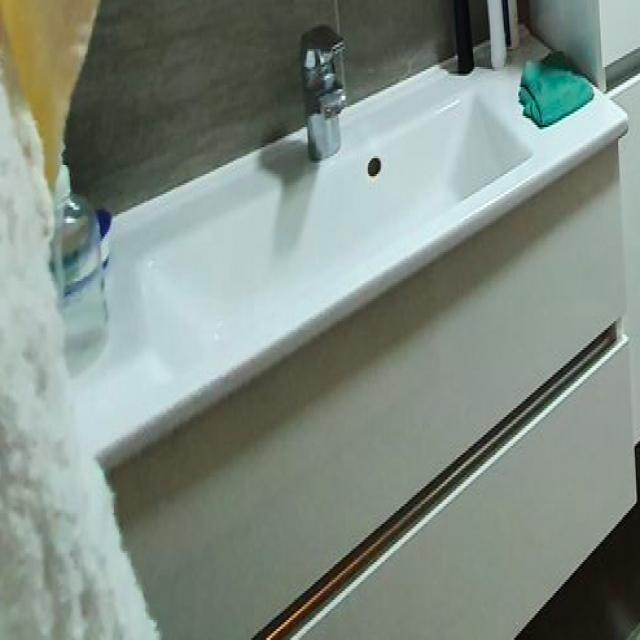wastafel: (104, 140, 638, 640), (85, 20, 629, 452)
